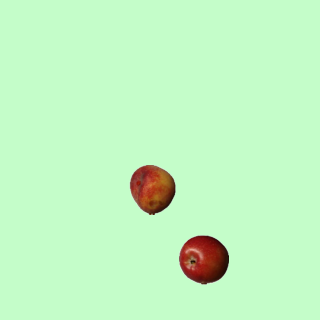Apple Braeburn: (178, 234, 228, 284)
Peach: (127, 164, 177, 214)
